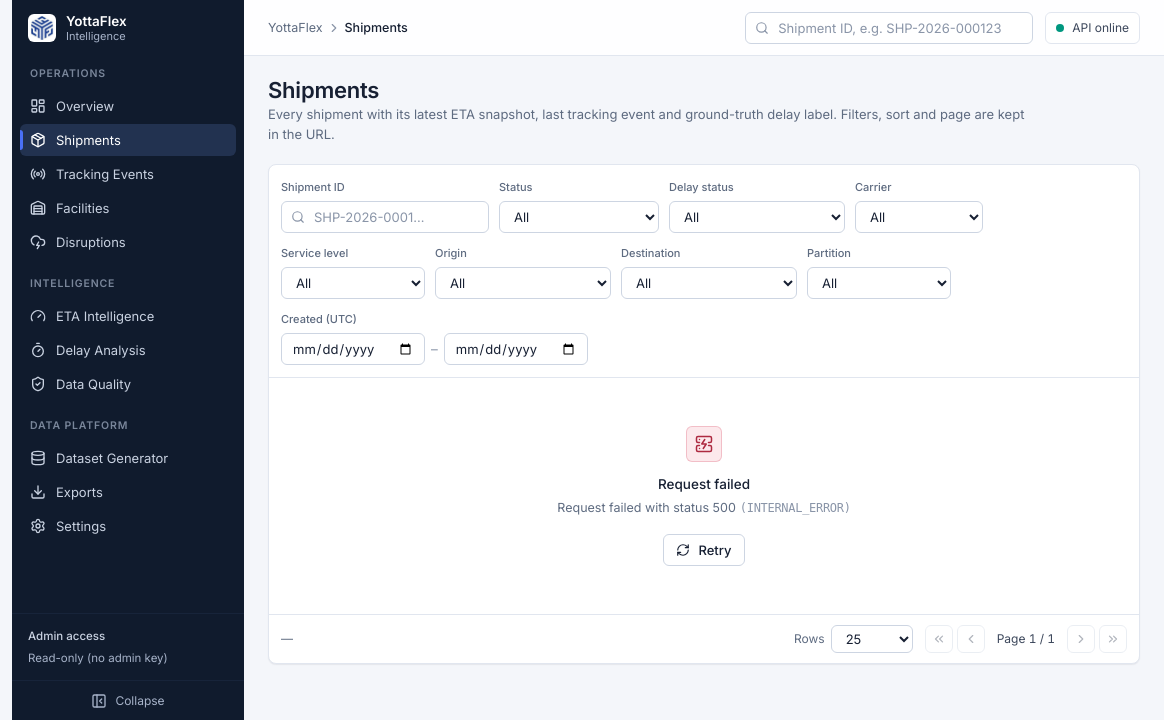
Test: shipments table › shows loading skeletons, then an error state with a working retry
Expected: the text "Request failed" is shown, top-left (658, 474), bottom-right (750, 494)
Click the button "Retry": (704, 550) top-left (664, 534), bottom-right (744, 566)
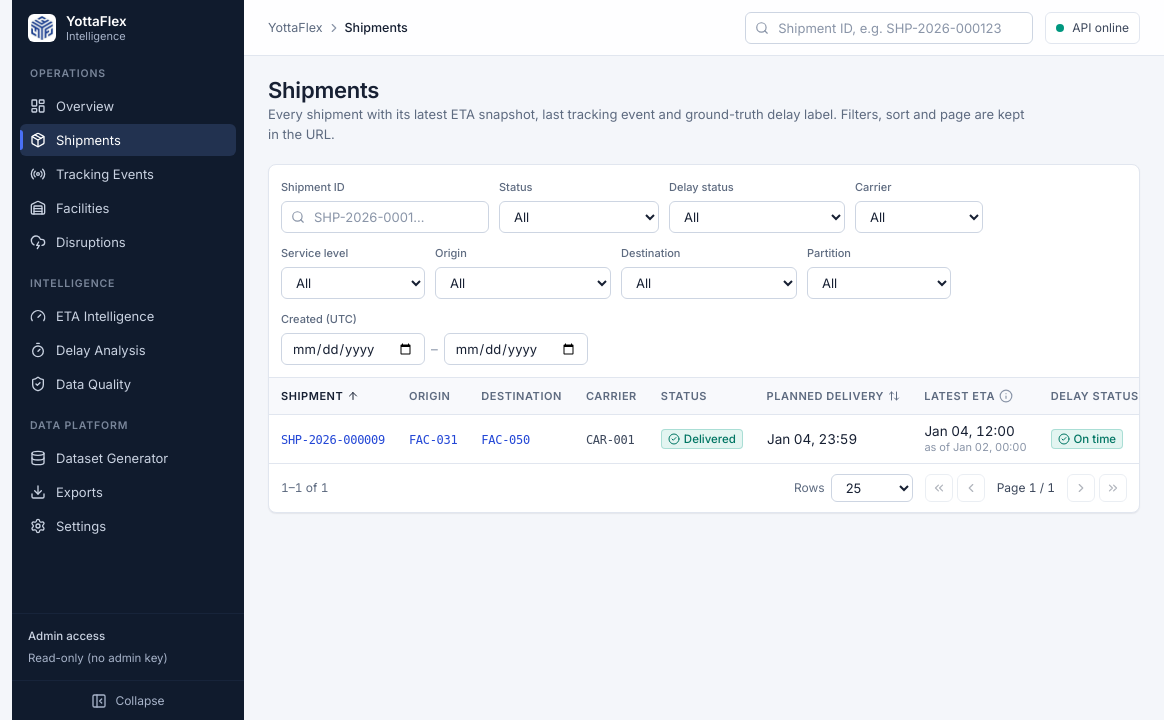
Now the link "SHP-2026-000009" is shown, box top-left (281, 432), bottom-right (385, 446)
